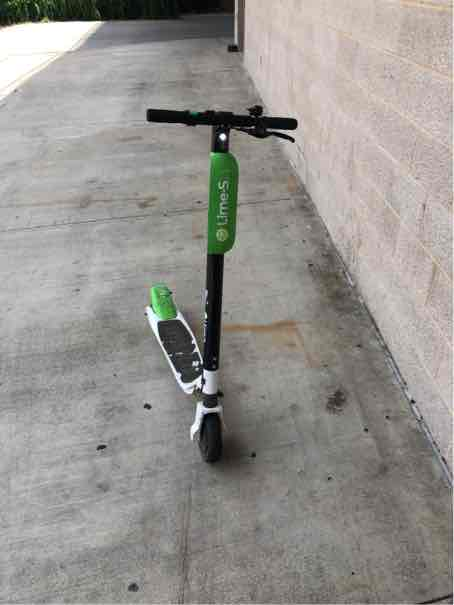scooter: (127, 92, 302, 476)
